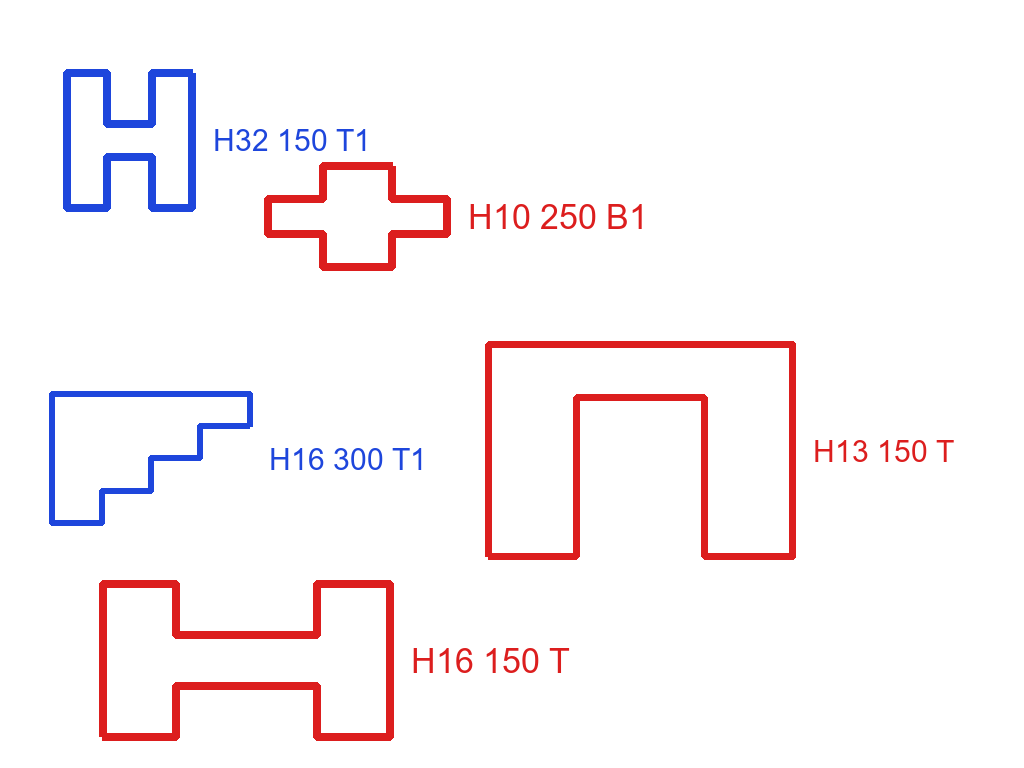shape: (483, 339, 798, 562), (96, 578, 397, 742), (47, 389, 254, 529), (261, 160, 454, 273), (60, 67, 199, 213)
text: (466, 202, 650, 231), (409, 646, 572, 675), (267, 446, 429, 472), (211, 127, 373, 153), (811, 438, 956, 464)
